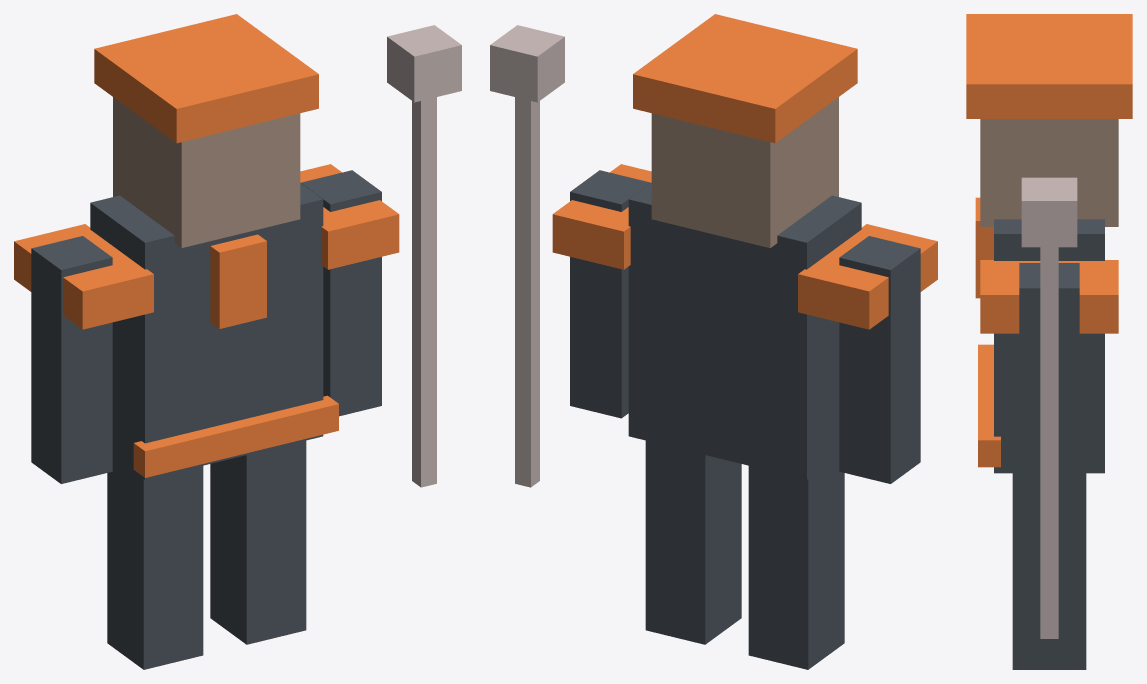
The model's file is 19_cassian_signalborn_custodian_from_main.glb.
3 renders of one model, left to right at view 1: azimuth 30°, elevation 25°; view 2: azimuth 150°, elevation 25°; view 3: azimuth 270°, elevation 25°, orthographic.
Visible parts, largest first — view 1: Cassian Signalborn, Custodian from Main; view 2: Cassian Signalborn, Custodian from Main; view 3: Cassian Signalborn, Custodian from Main.
Boxes of the visible parts, x1,y1,x2,y2 form: Cassian Signalborn, Custodian from Main: [14, 14, 461, 669]; Cassian Signalborn, Custodian from Main: [490, 14, 937, 669]; Cassian Signalborn, Custodian from Main: [966, 14, 1132, 669].
Bounding box in the file's own units: 1.1 × 1.5 × 0.3889.
